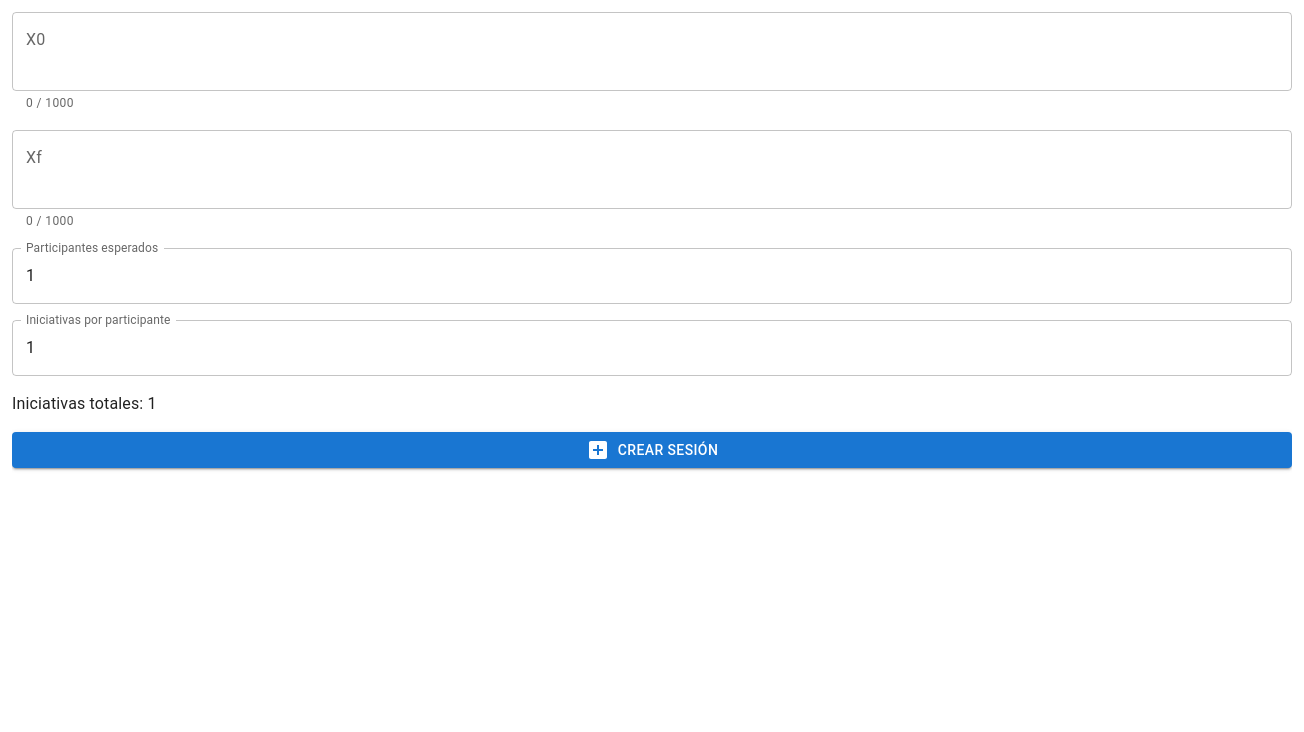
Scenario: formulario de configuración › impide cantidades fuera de rango
In the text box labelled "X0": point(652, 52) [26, 28, 1278, 74], type "Situación inicial"
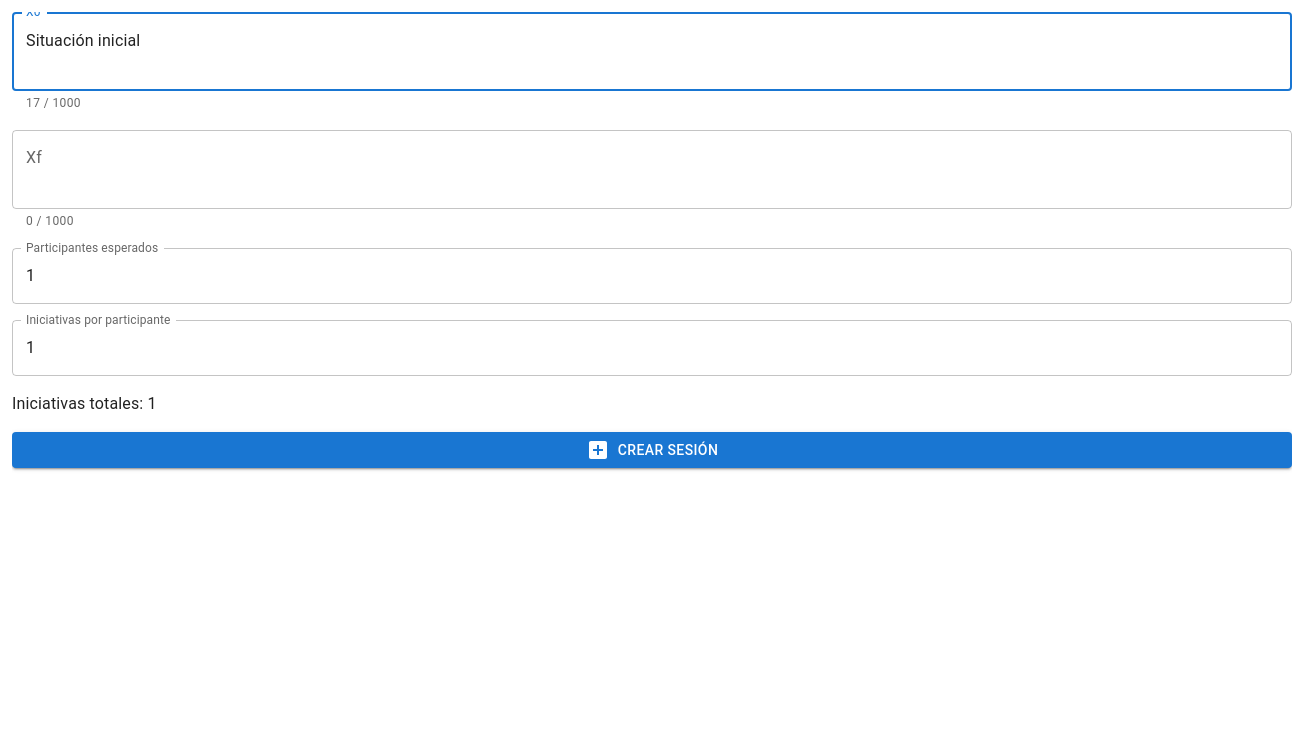
In the text box labelled "Xf": point(652, 169) [26, 146, 1278, 192], type "Situación futura"
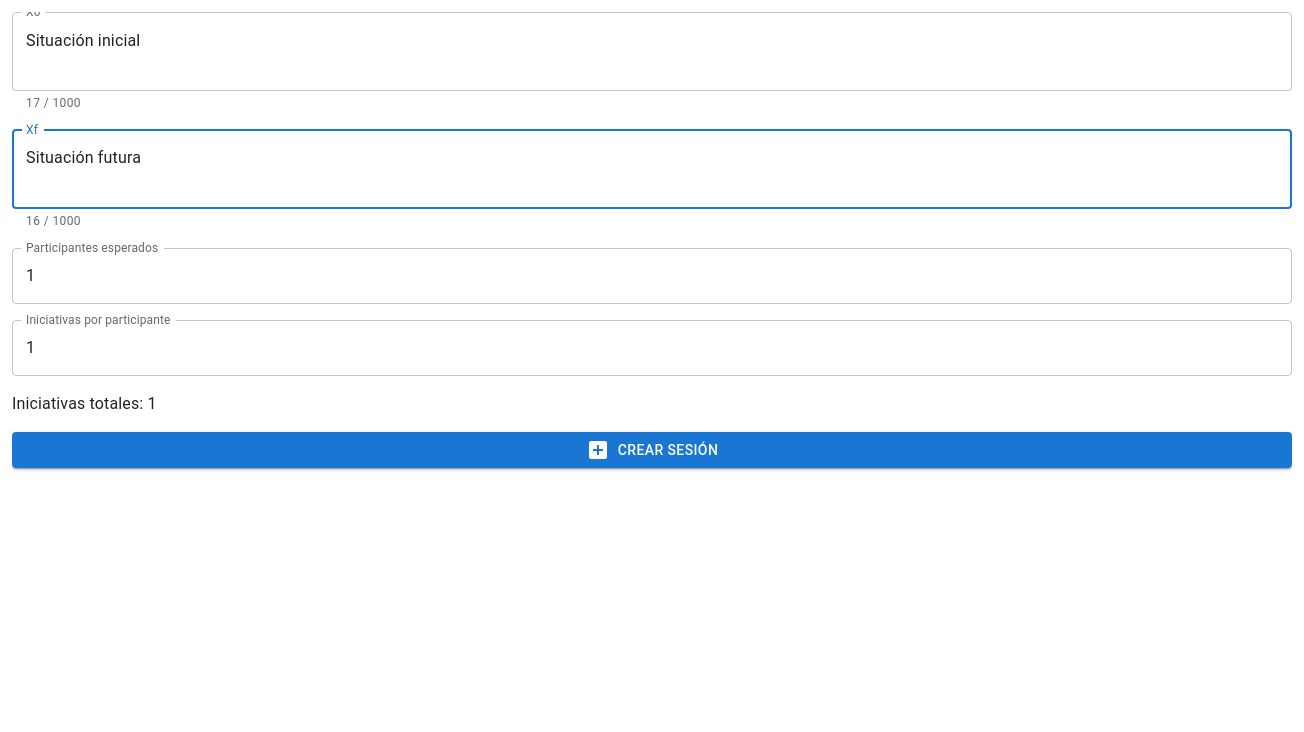
Replace the text in the number field labelled "Iniciativas por participante" with "11": point(652, 348) [12, 320, 1292, 376]
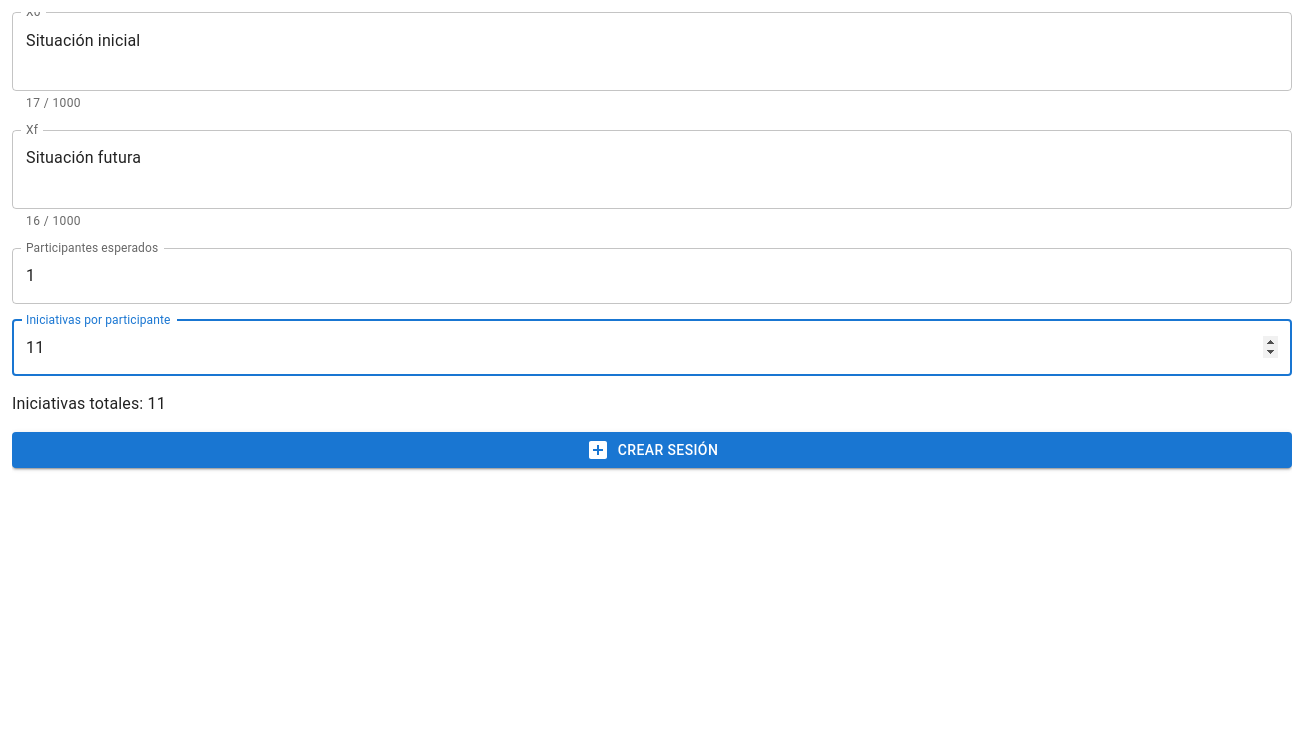
Click the button "CREAR SESIÓN": point(652, 450) [12, 432, 1292, 468]
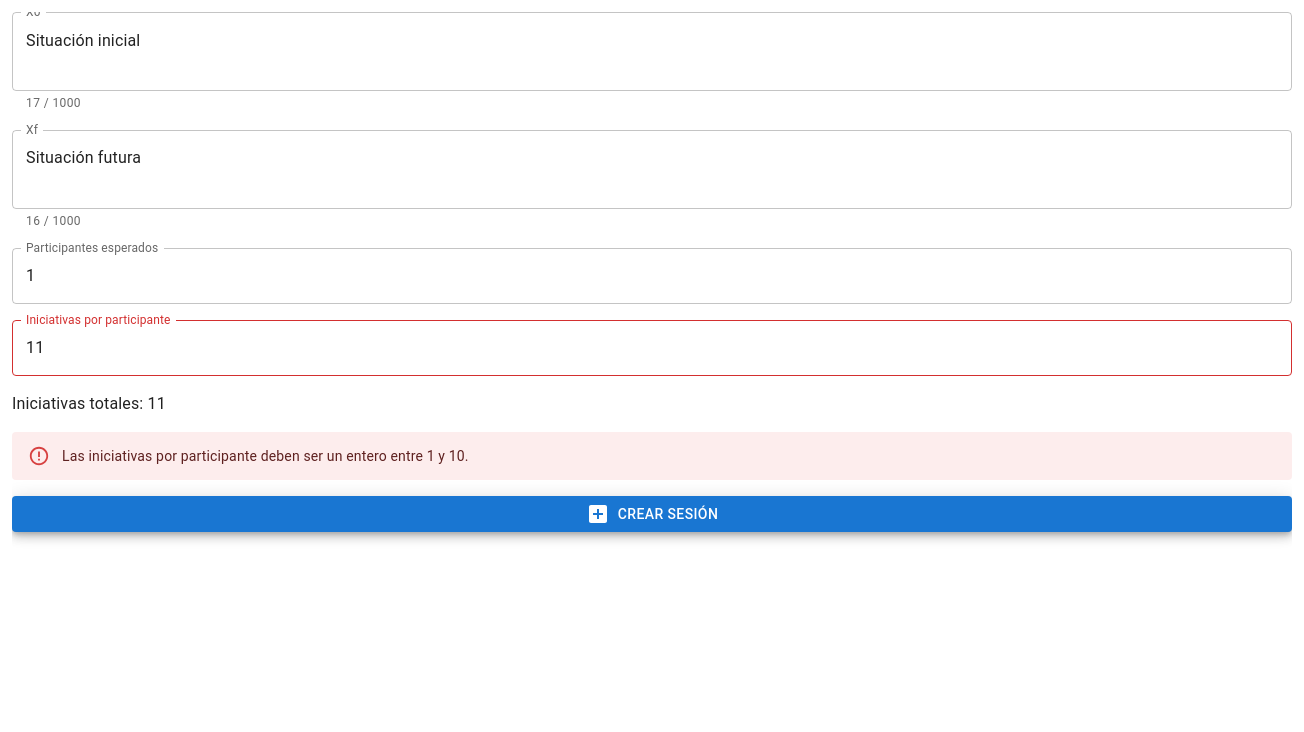
Check: the text "Las iniciativas por participante deben ser un entero entre 1 y 10." is shown, box [62, 448, 469, 464]
